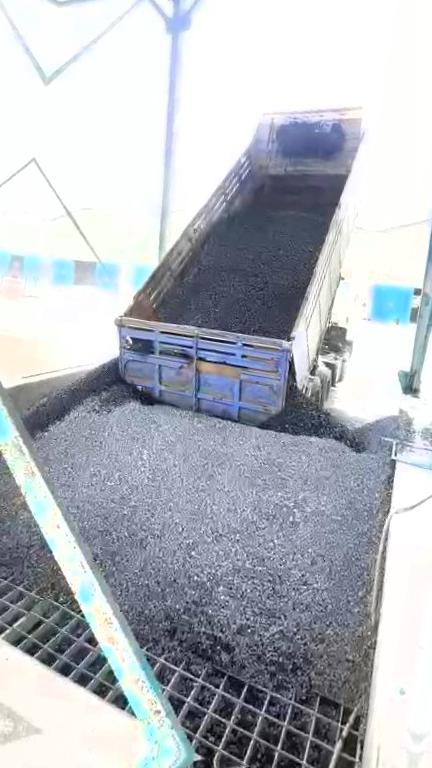gravel: (38, 390, 392, 705), (159, 176, 346, 339), (0, 435, 80, 611), (263, 383, 418, 455), (22, 359, 129, 437)
sand: (0, 329, 73, 385)
